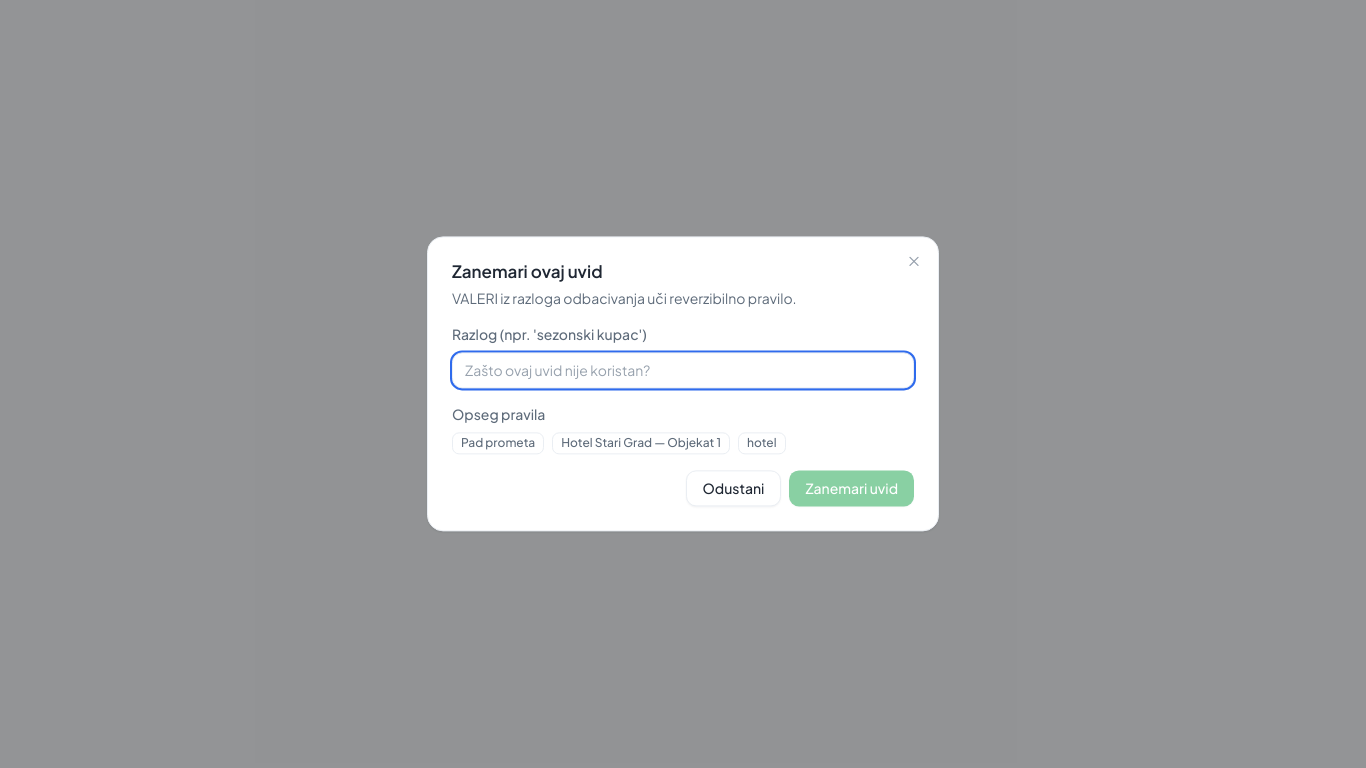
Scenario: RuleCard (M10) — errors › shows an error (and no proposal) when the dismissal fails
The width and height of the screenshot is (1366, 768).
Type "Sezonski kupac" into the field labelled "Razlog (npr. 'sezonski kupac')". click: (683, 371)
box: [452,353,914,389]
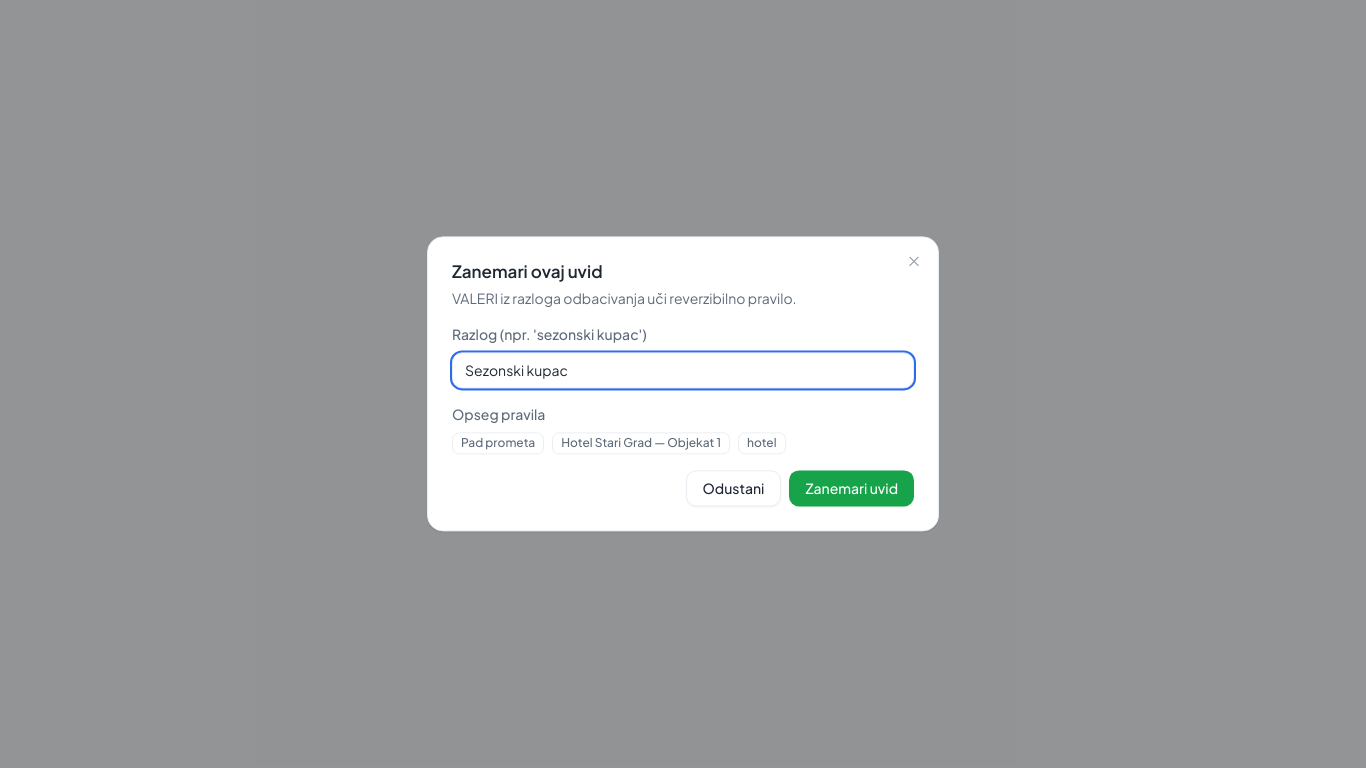
Click the button with test id "submit-dismiss-button". click: (852, 489)
box: [789,471,914,507]
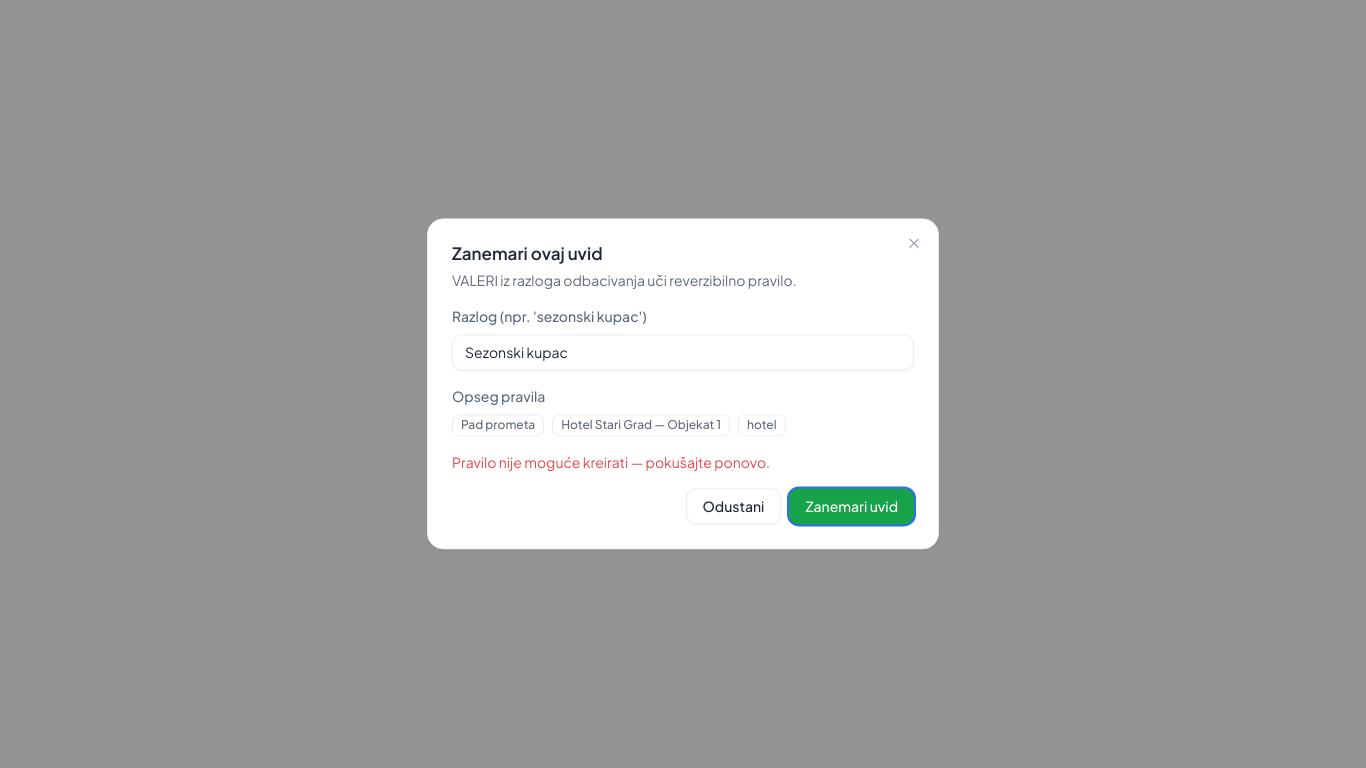
Expected: the text "Pravilo nije moguće kreirati — pokušajte ponovo." is shown, [452,454,770,472]
